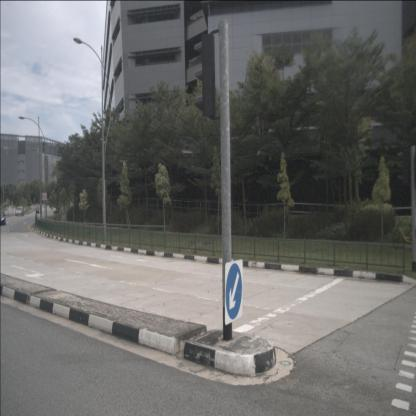vehicle-bicycle: (393, 216, 415, 250)
vehicle-car: (0, 210, 6, 226), (15, 207, 25, 216), (54, 204, 62, 214), (35, 207, 40, 214)
